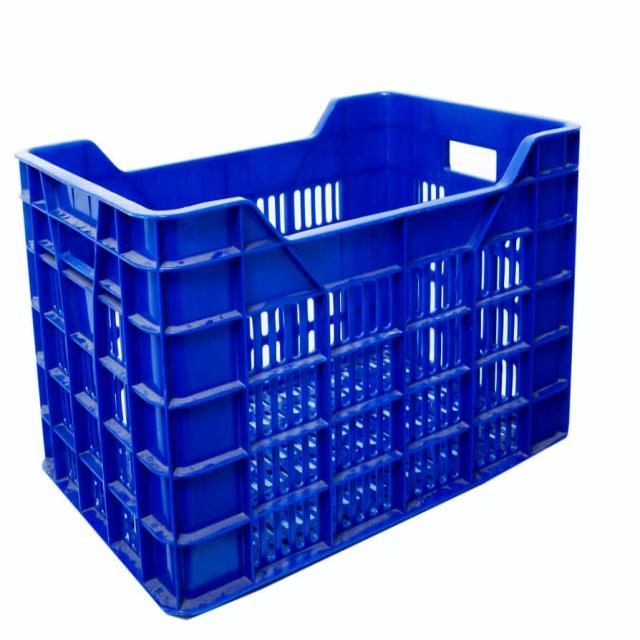basket: (16, 87, 595, 621)
